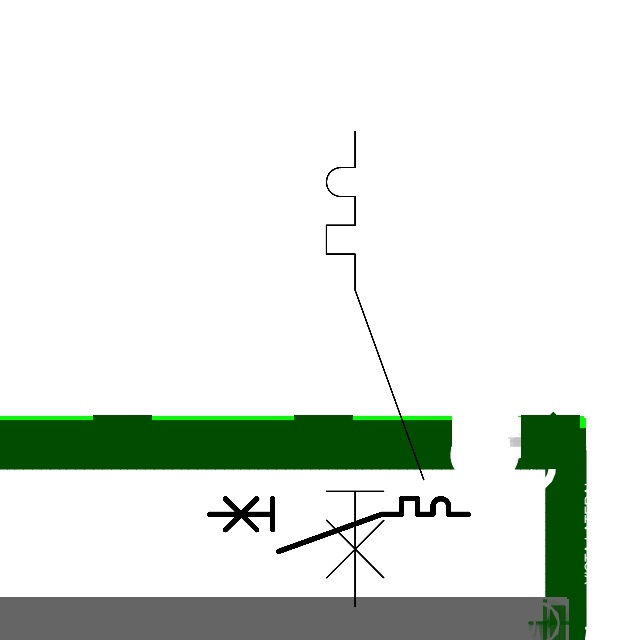interruptor_termomagnetico: (314, 119, 436, 619), (203, 492, 475, 558)
